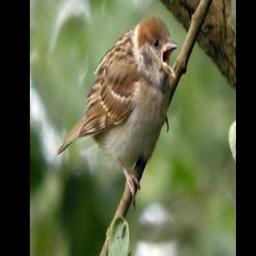Sparrow: (56, 12, 179, 212)
